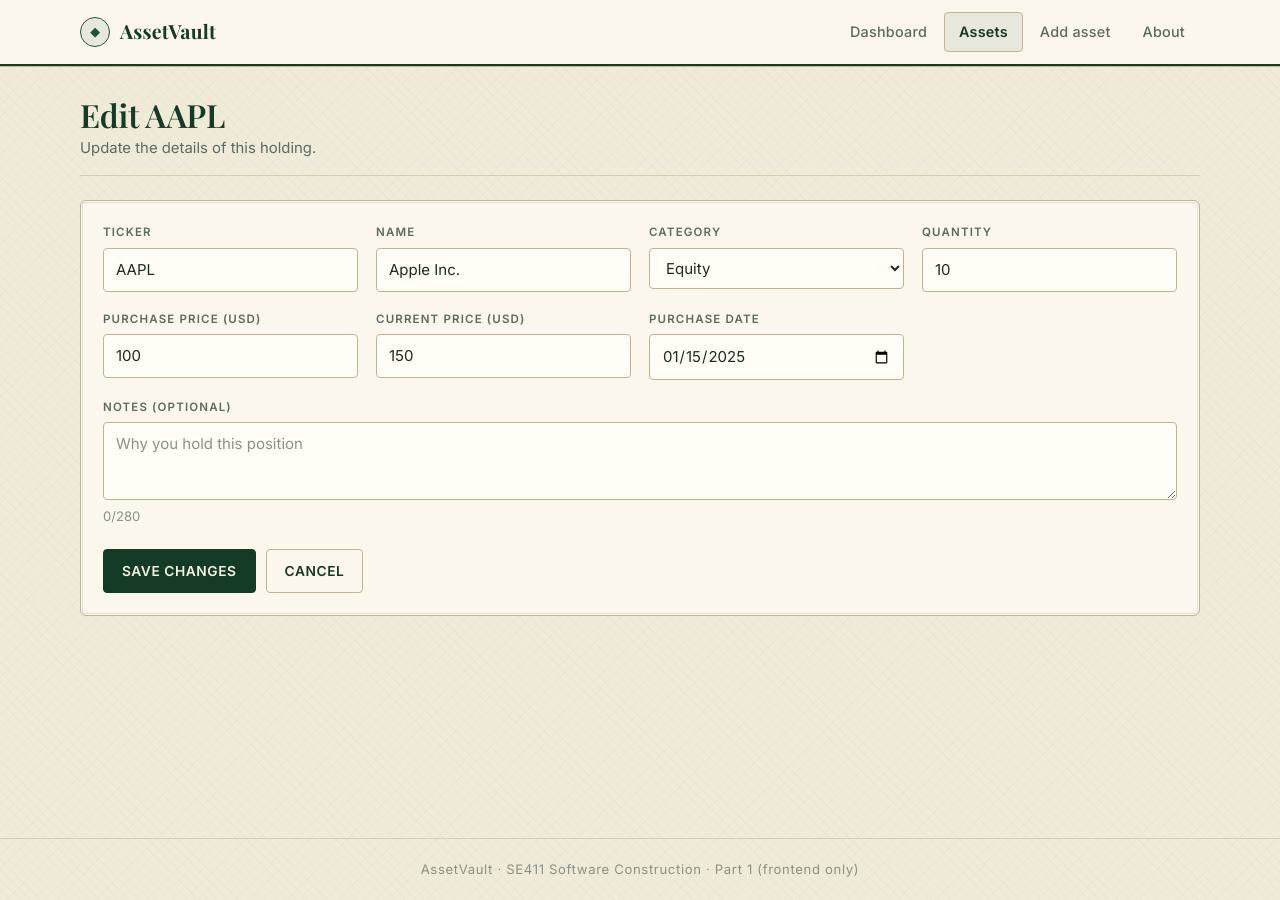
Scenario: updating an asset › pre-fills the form and saves changes
This screenshot has width=1280, height=900.
Replace the text in the number field labelled "Current price (USD)" with "200" at (504, 356), box [376,334,631,378]
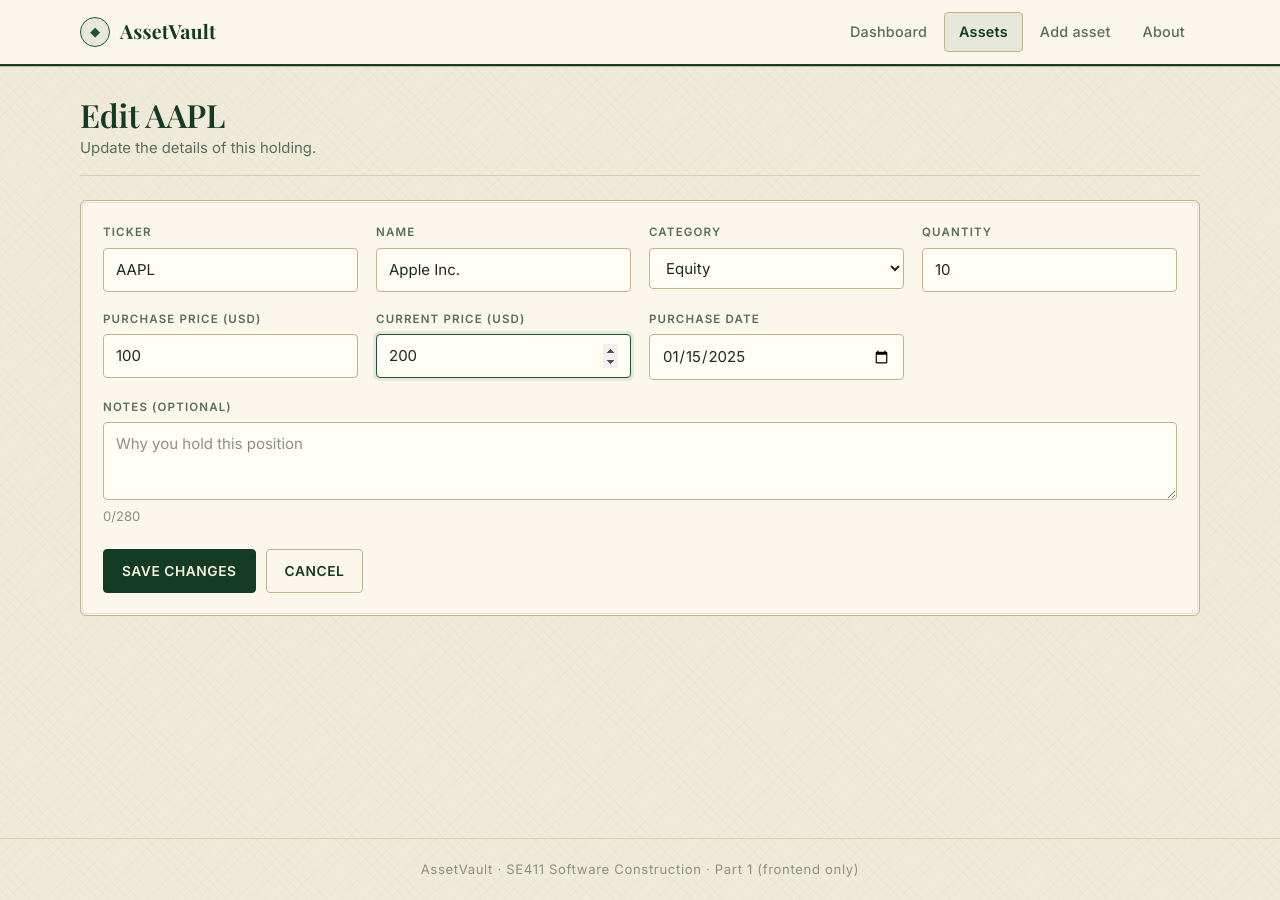
Click the button "Save changes" at (179, 572), box [103,550,256,594]
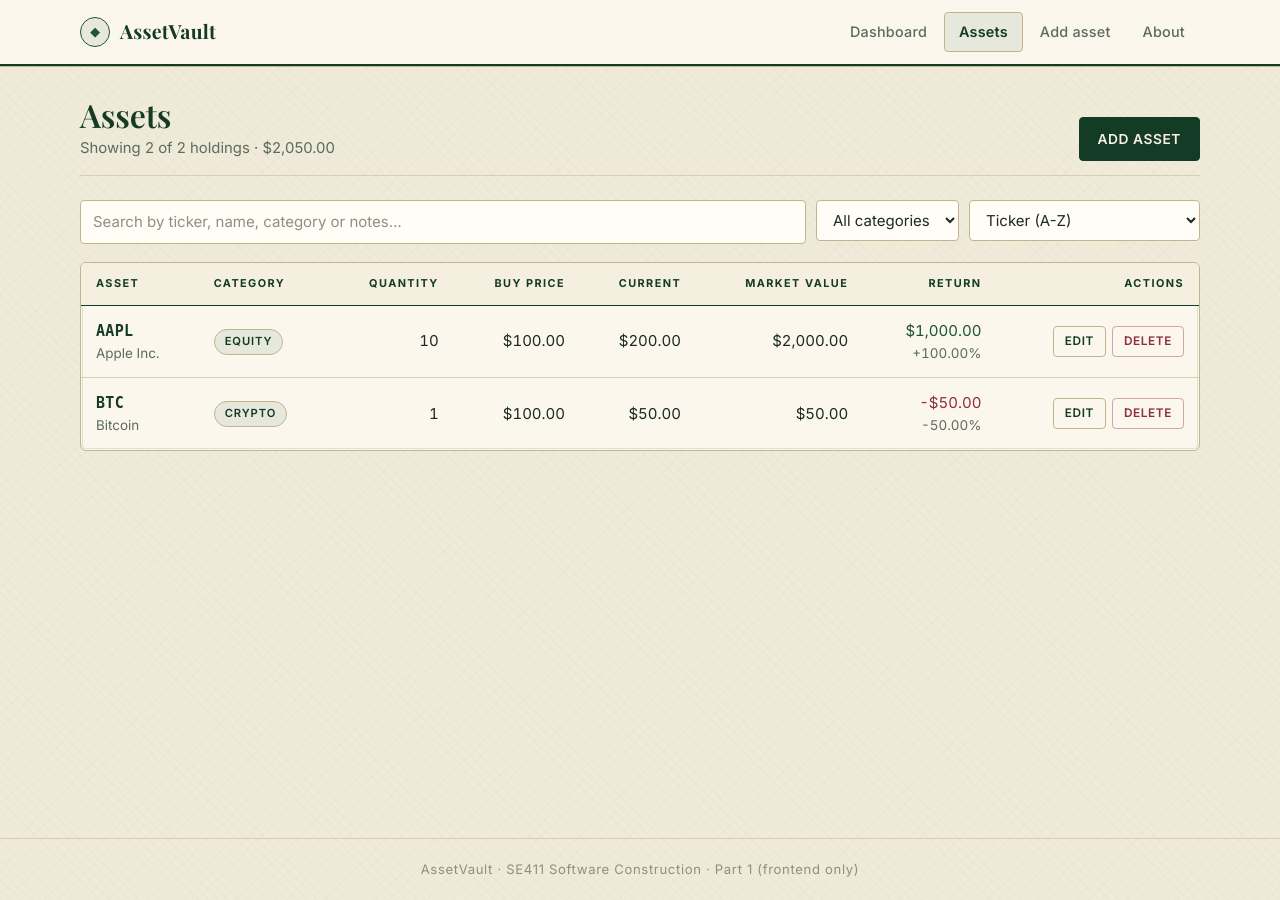
Expected: the heading "Assets" is shown, [80,93,171,136]
Expected: the text "$2,000.00" is shown, [696,306,863,378]
